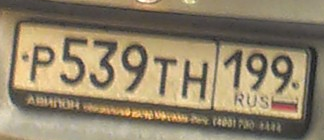character: (60, 33, 90, 94), (89, 37, 119, 96), (122, 40, 149, 99), (28, 39, 56, 91), (181, 57, 209, 105), (153, 54, 178, 100), (223, 45, 244, 94), (247, 46, 268, 95), (271, 47, 292, 94)
